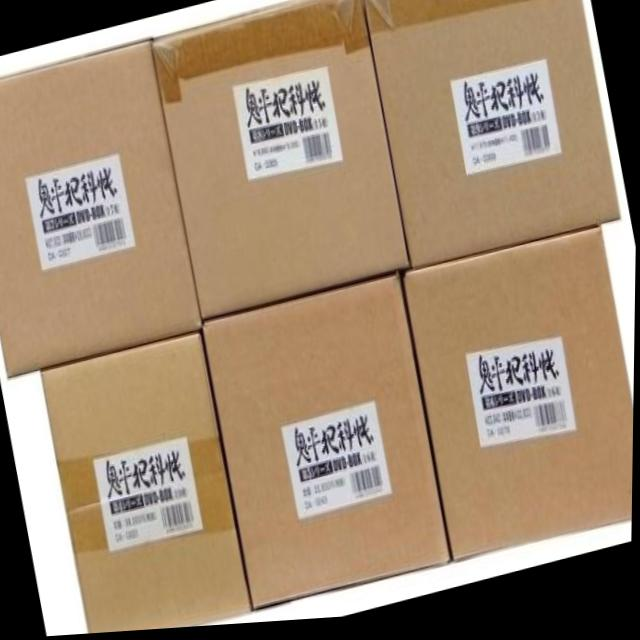box: (150, 0, 410, 323), (204, 281, 453, 616), (402, 237, 635, 568), (363, 0, 622, 277), (0, 39, 204, 378), (41, 335, 256, 635)
